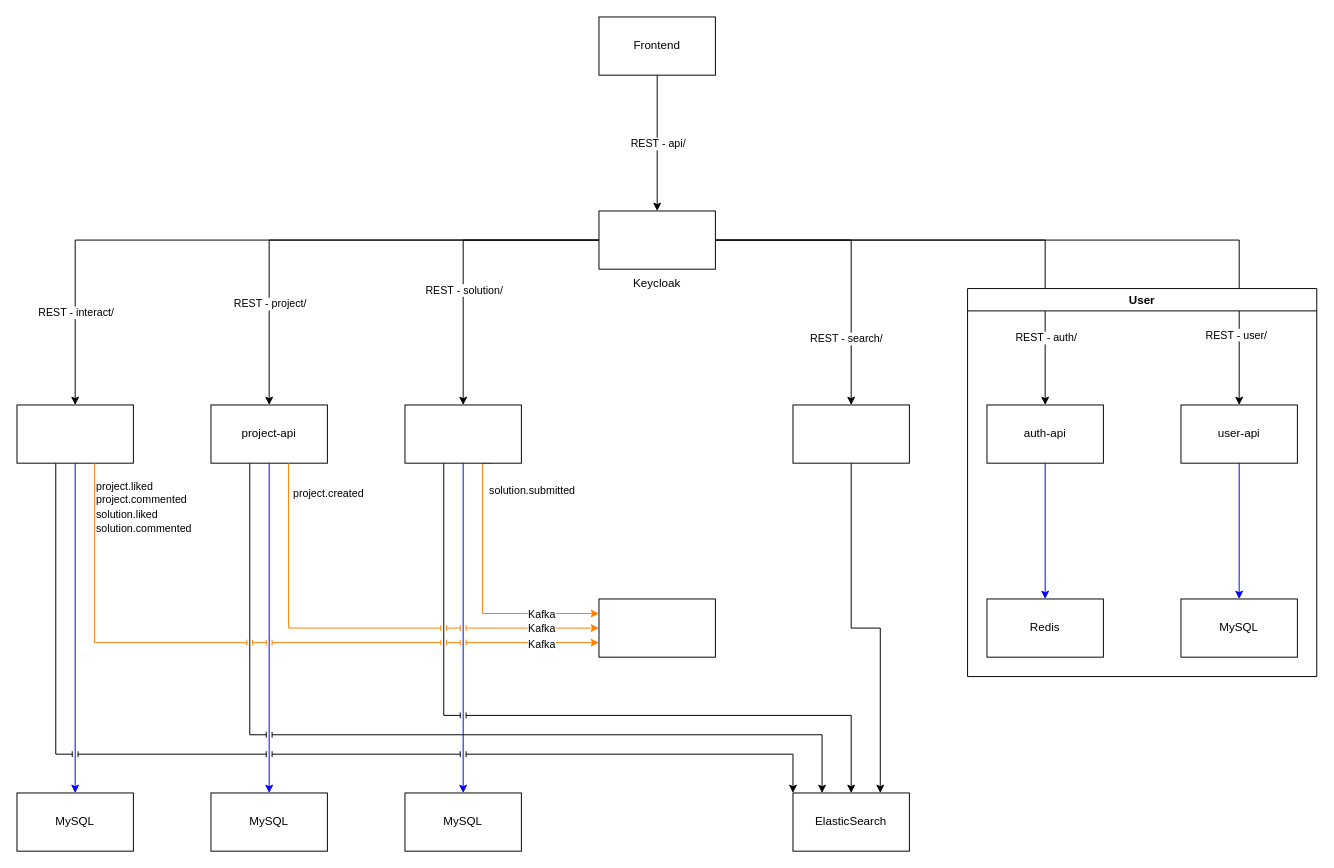
This 1334x868 diagram has some shape labels left out. Here are the shapes that lost their labels. From the top down, the centre of each, then its label:
At [656,239]: "api-gateway".
At [74,433]: "interaction-api".
At [462,433]: "solution-api".
At [850,433]: "search-indexer-worker".
At [656,627]: "notification-worker".
